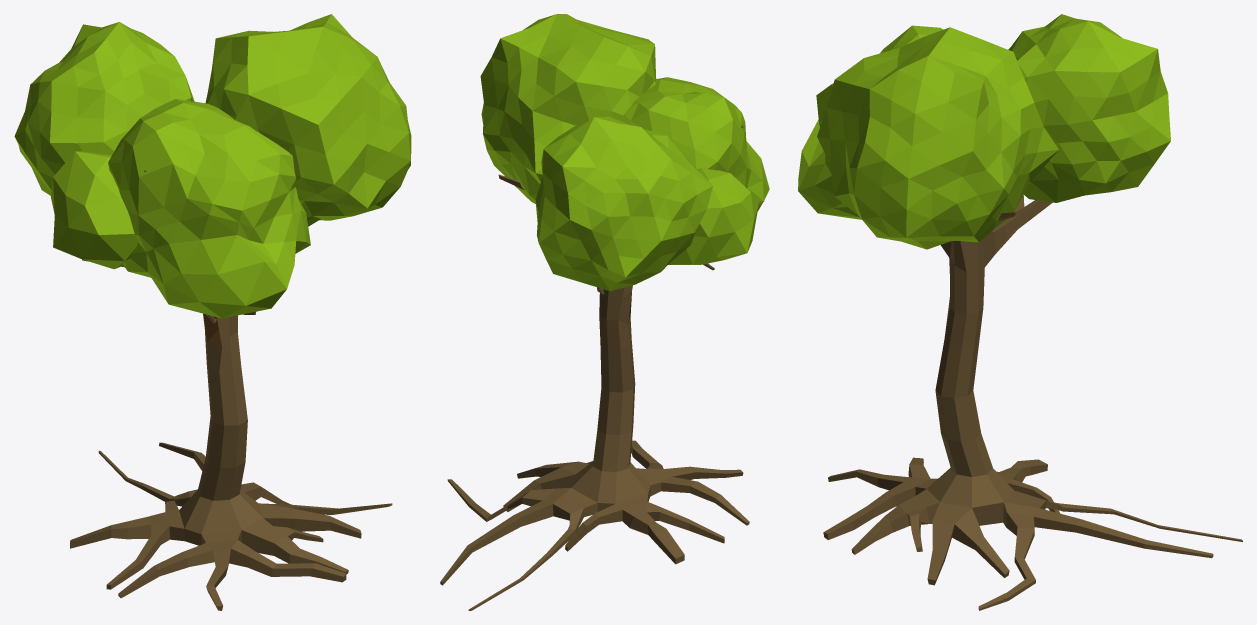
The model's file is tree.fbx.
The picture shows the model from 3 angles, left to right: view 1: azimuth 30°, elevation 25°; view 2: azimuth 150°, elevation 25°; view 3: azimuth 270°, elevation 25°; orthographic projection. The views are drawn at different scales.
Visible parts, largest first — view 1: Cylinder; view 2: Cylinder; view 3: Cylinder.
Part boxes in pixels (left/top/right/bottom): Cylinder: left=14, top=14, right=411, bottom=610; Cylinder: left=440, top=14, right=769, bottom=610; Cylinder: left=798, top=14, right=1242, bottom=610.
Size of the model in its own units: 648 by 977 by 760.
